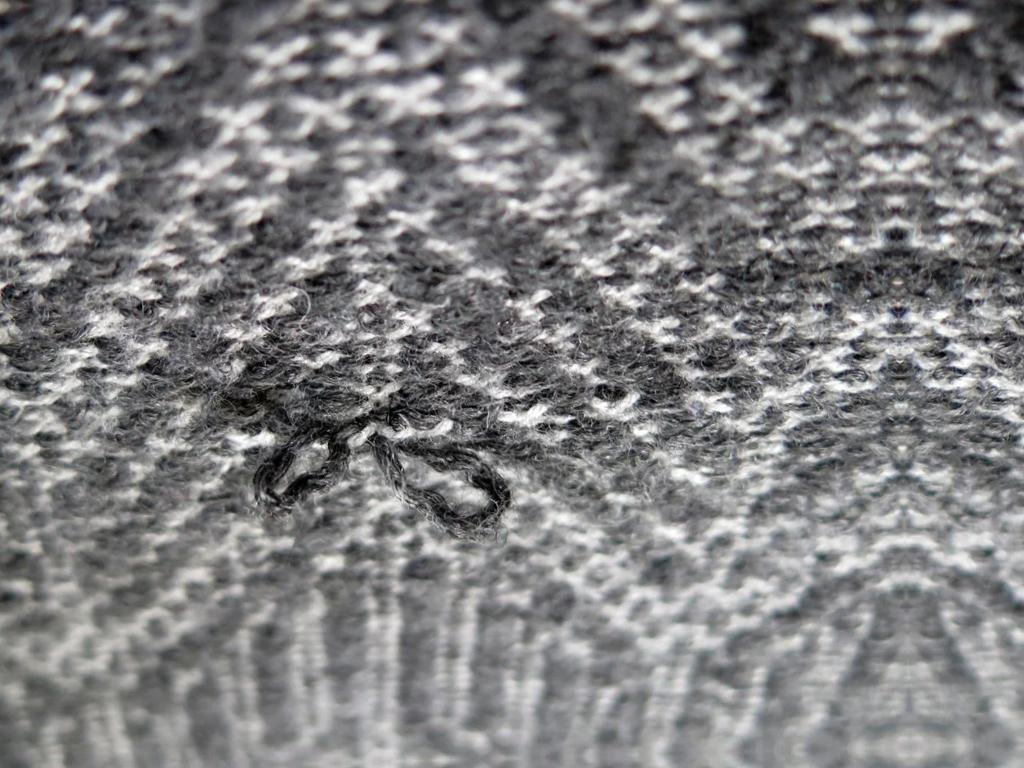snag: (360, 416, 515, 551), (248, 412, 347, 519)
